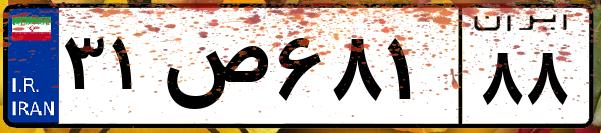1: (385, 28, 445, 110), (110, 28, 158, 98)
3: (57, 26, 110, 100)
6: (270, 28, 330, 110)
8: (330, 28, 385, 110), (475, 38, 525, 113), (525, 38, 570, 115)
ص: (158, 20, 270, 120)
